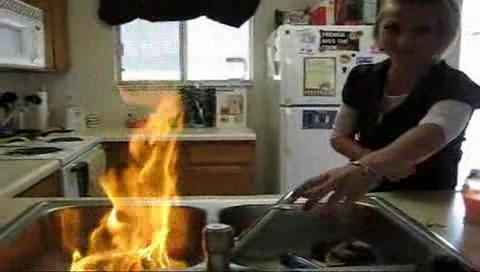fire: (92, 99, 183, 268)
